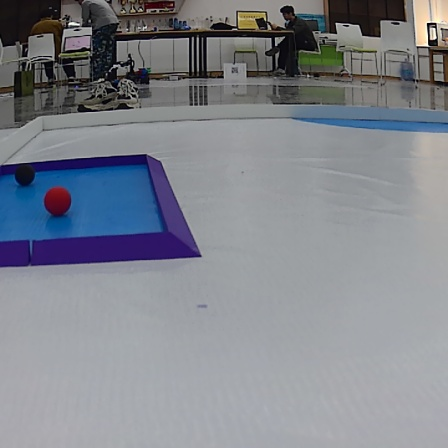black: (14, 166, 36, 193)
blue_aim: (0, 153, 215, 271)
blue_base: (291, 108, 448, 136)
red: (46, 185, 74, 222)
